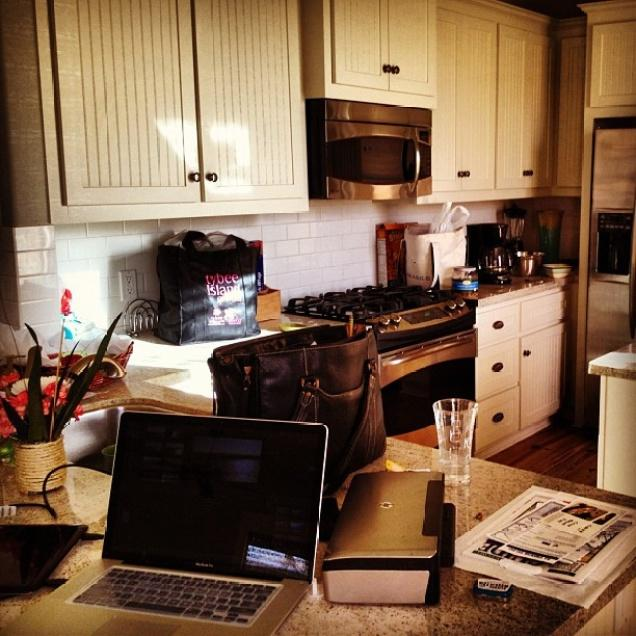Lemari: (30, 0, 310, 229), (413, 0, 583, 208)
